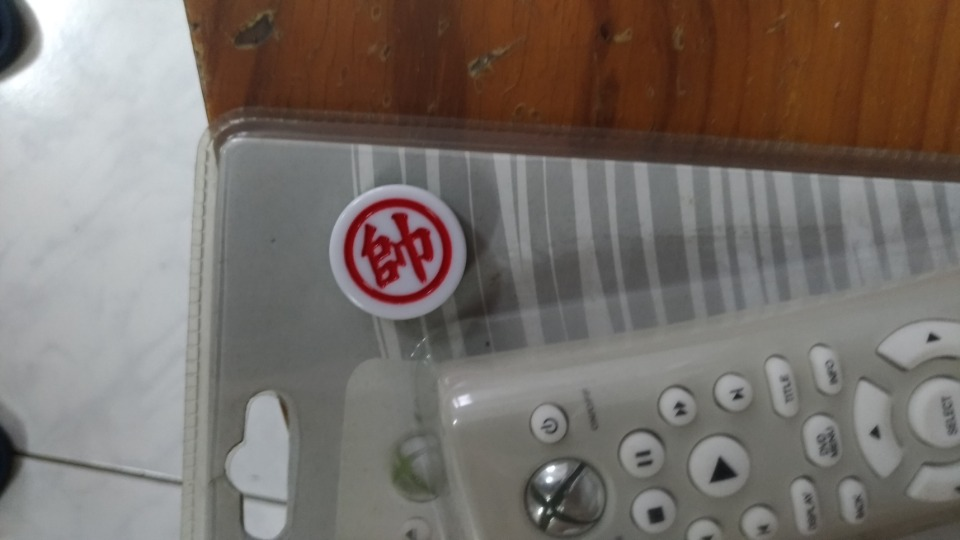r-king: (325, 177, 476, 329)
